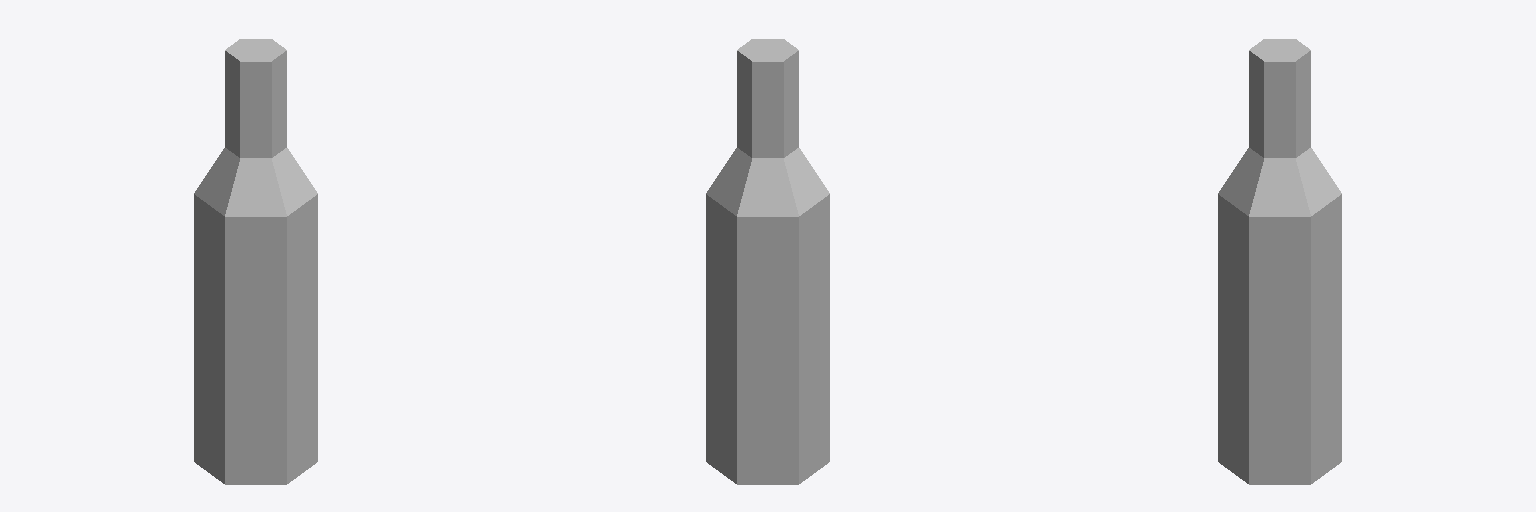
The model's file is Bottle_Type1.obj.
3 views of the same model, side by side, from view 1: azimuth 30°, elevation 25°; view 2: azimuth 150°, elevation 25°; view 3: azimuth 270°, elevation 25° (orthographic).
Visible parts, largest first — view 1: Bottle_Type1_Cylinder.029; view 2: Bottle_Type1_Cylinder.029; view 3: Bottle_Type1_Cylinder.029.
Boxes of the visible parts, x1,y1,x2,y2 form: Bottle_Type1_Cylinder.029: [194, 39, 317, 484]; Bottle_Type1_Cylinder.029: [706, 39, 829, 484]; Bottle_Type1_Cylinder.029: [1218, 39, 1341, 484].
Bounding box in the file's own units: 0.1039 × 0.4375 × 0.12.